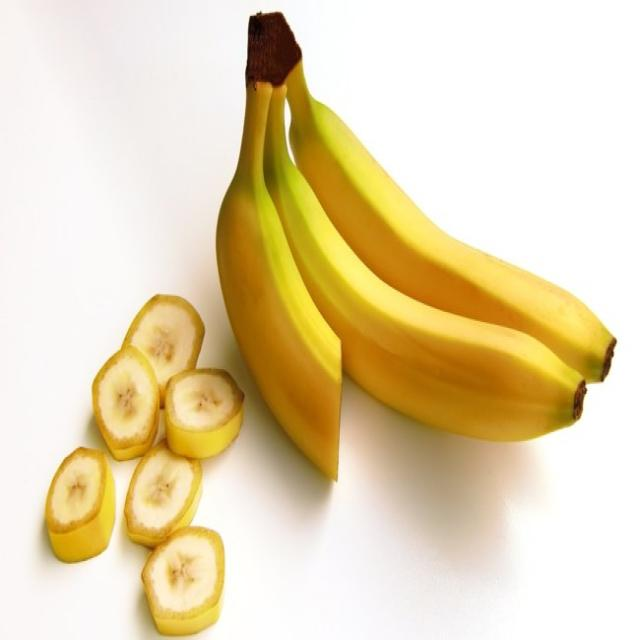platano: (23, 276, 278, 635)
